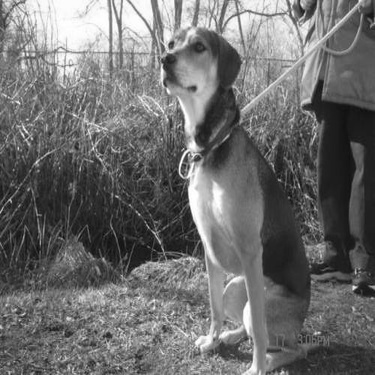dog: (145, 13, 316, 371)
